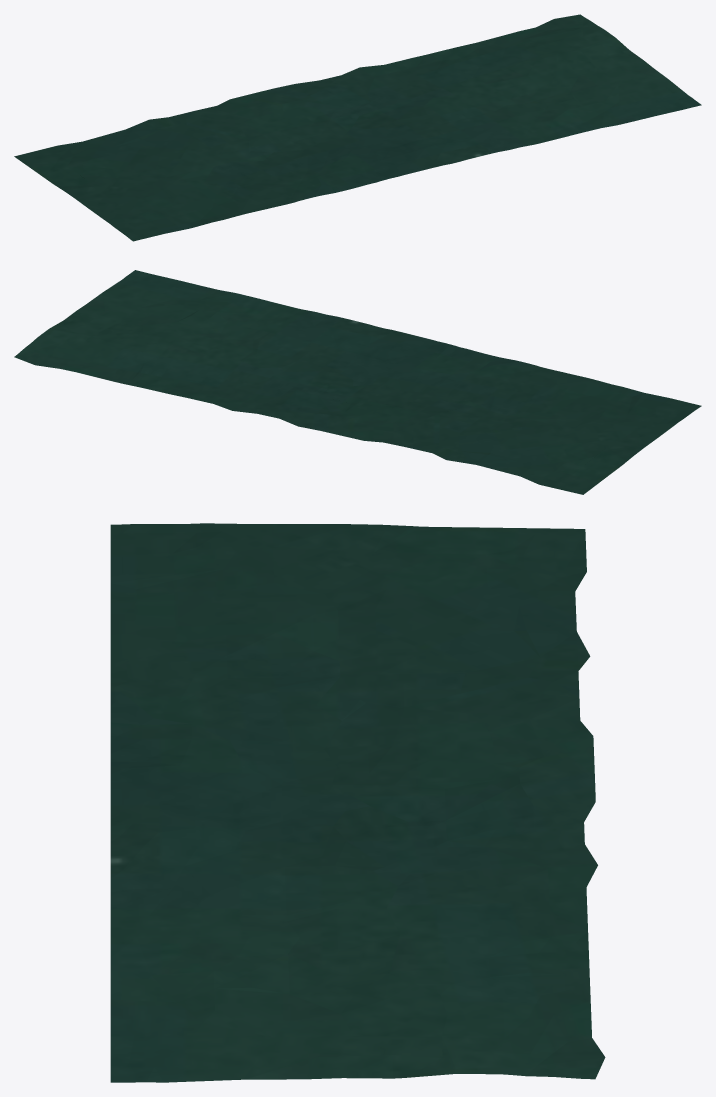
3 renders of one model, top to bottom at view 1: azimuth 30°, elevation 25°; view 2: azimuth 150°, elevation 25°; view 3: azimuth 270°, elevation 25°, orthographic. The views are drawn at different scales.
Size of the model in its own units: 104 by 0.8094 by 39.49.
Materials: 1 (1 with a texture image).
